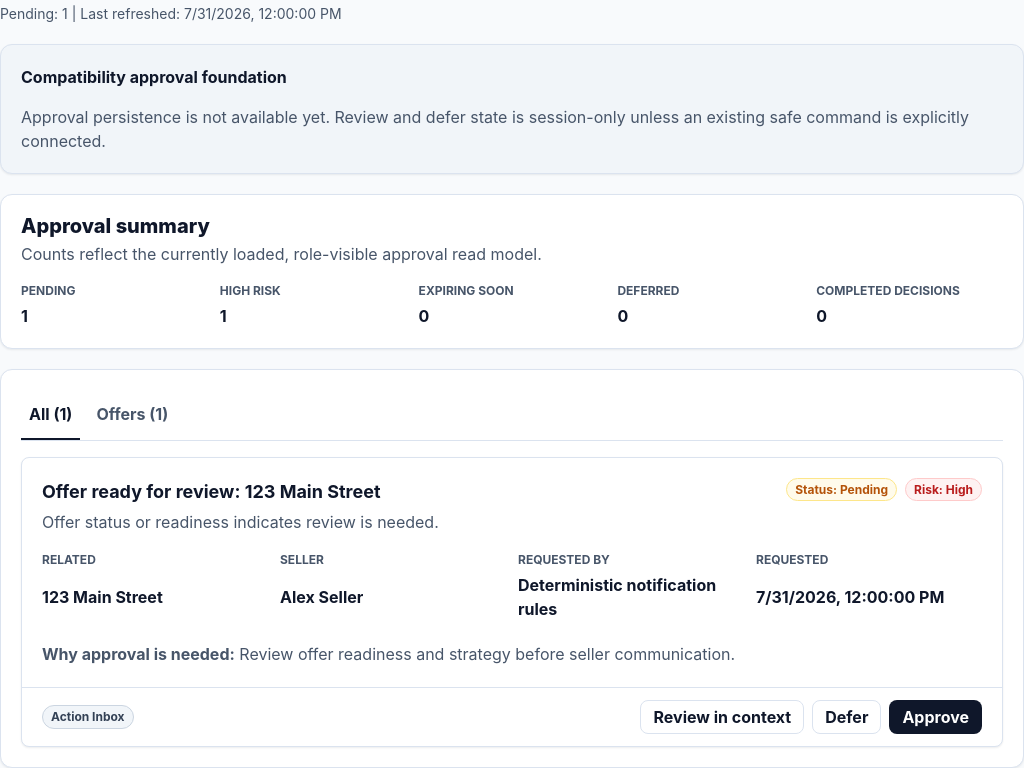
ApprovalInboxWorkspace › never claims success when an injected command does not confirm execution
(page scrolled)
Click the button "Approve": (936, 717) [889, 700, 982, 734]
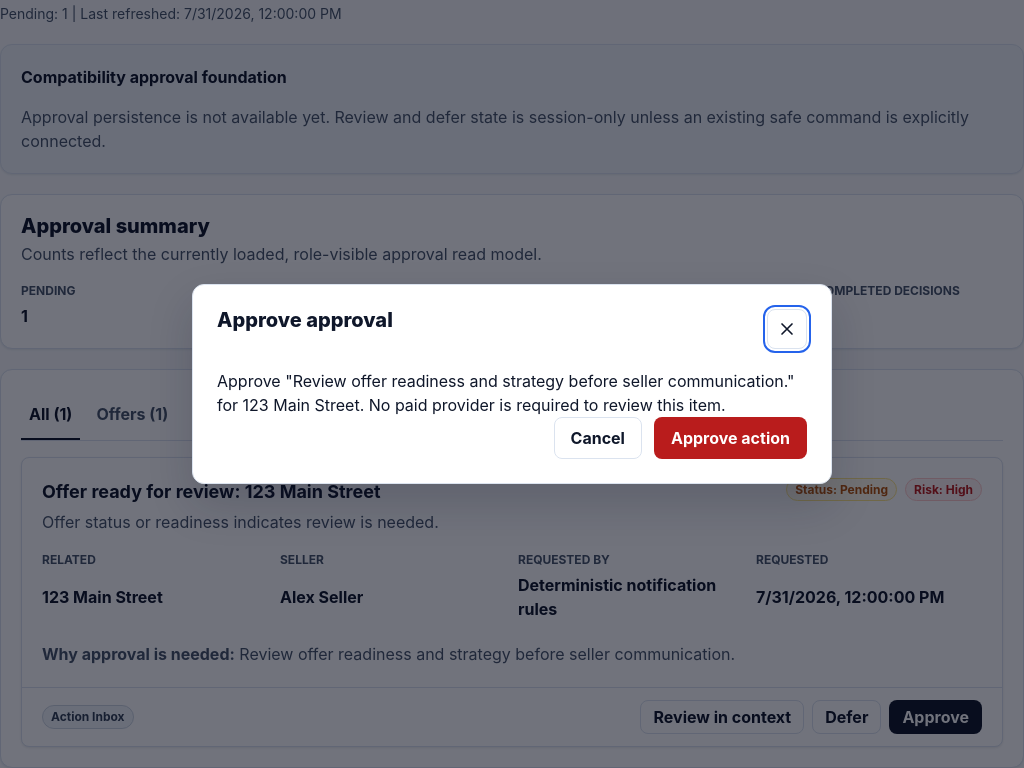
Click the button "Approve action": (730, 438) [654, 417, 807, 459]
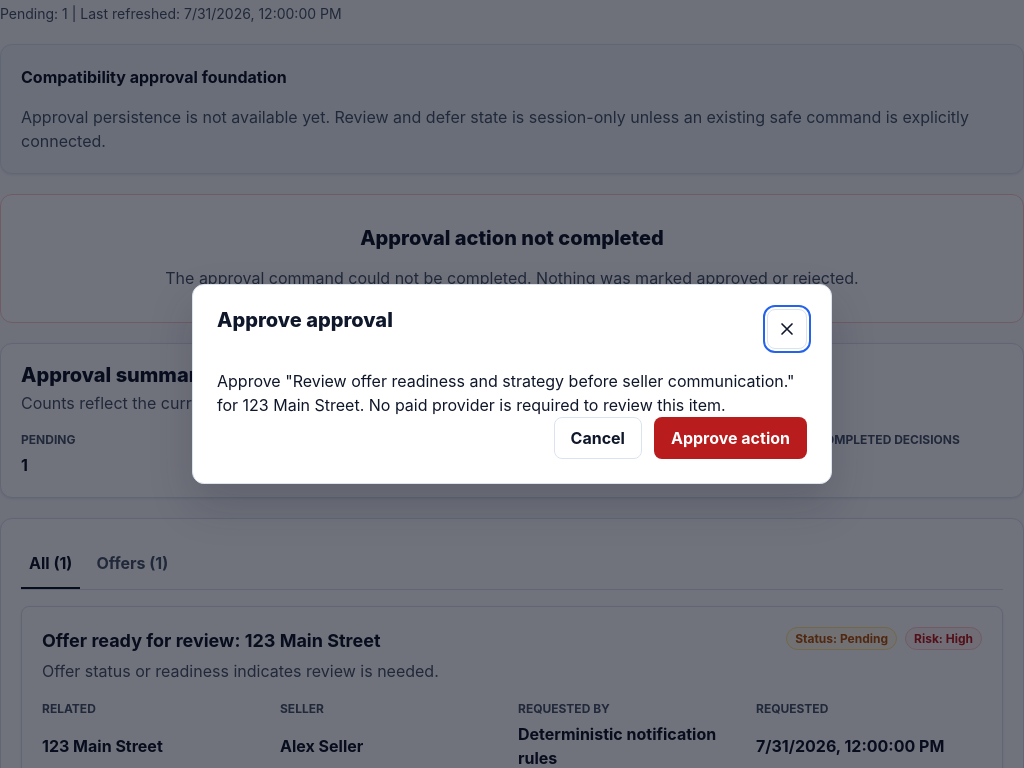
Check: the text "Status: Pending" is shown, box [786, 626, 897, 650]
Check: the message shows "Nothing was marked approved", box [165, 268, 859, 288]
